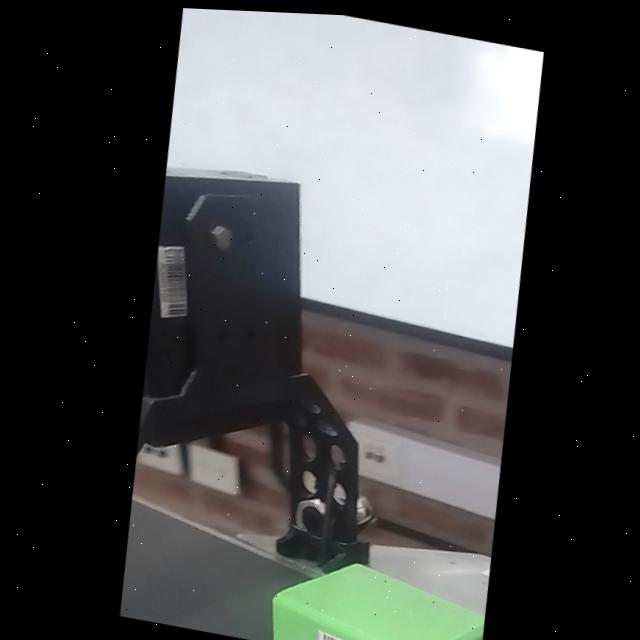greenBox: (256, 535, 487, 640)
